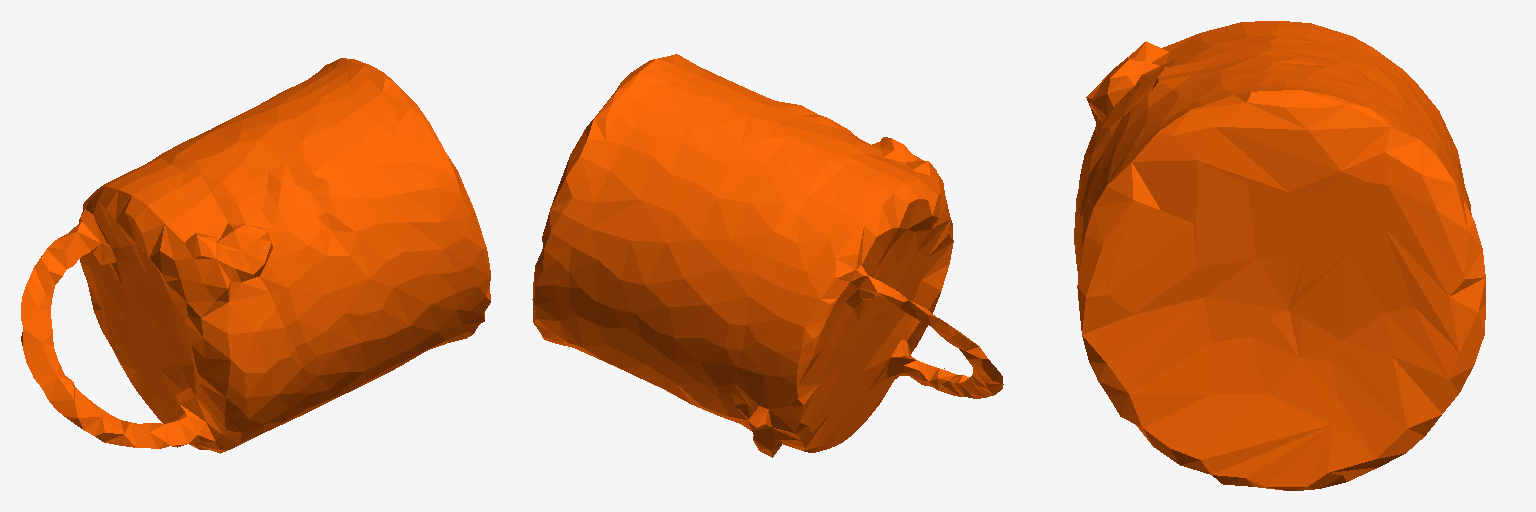
robot.urdf — candy_toy:
<?xml version="1.0" ?>
<robot name="candy_toy">
   <material name="obj_color">
      <color rgba="1.0 0.423529411765 0.0392156862745 1.0"/>
   </material>
   <link name="top">
      <inertial>
         <origin rpy="0.002463861740235715 0.003011032043180198 0.003070506765611338" xyz="0.01559938501990142 0.0005196950977075285 0.002922600163270314"/>
         <mass value="1.811879439585593"/>
         <inertia ixx="0.002506888890940232" ixy="-4.5893181827111e-05" ixz="-0.0001470544007237769" iyy="0.003035262943375719" iyz="1.819596843999152e-05" izz="0.003003248714711299"/>
      </inertial>
      <visual>
         <origin rpy="0 0 0" xyz="0 0 0"/>
         <geometry>
            <mesh filename="top_watertight_tiny.stl" scale="1 1 1"/>
         </geometry>
         <material name="obj_color"/>
      </visual>
      <collision>
         <origin rpy="0 0 0" xyz="0 0 0"/>
         <geometry>
            <mesh filename="top_watertight_tiny.obj" scale="1 1 1"/>
         </geometry>
      </collision>
   </link>
   <link name="bottom">
      <inertial>
         <origin rpy="1.633333333199431e-08 1.633333333199431e-08 1.633333333362855e-08" xyz="0.3464080000000008 0.3464080000000008 0.3464080000000008"/>
         <mass value="0.0009800000000000017"/>
         <inertia ixx="1.633333333253906e-08" ixy="5.447480642029219e-19" ixz="5.447480642029219e-19" iyy="1.633333333253906e-08" iyz="5.447480642029219e-19" izz="1.633333333253906e-08"/>
      </inertial>
      <visual>
         <origin rpy="0 0 0" xyz="0 0 0"/>
         <geometry>
            <mesh filename="bottom_watertight_tiny.stl" scale="1 1 1"/>
         </geometry>
         <material name="obj_color"/>
      </visual>
   </link>
   <joint name="rotation" type="revolute">
      <origin xyz="0 0 0"/>
      <axis xyz="0 0 -1"/>
      <parent link="bottom"/>
      <child link="top"/>
      <dynamics damping="1.0" friction="1.0"/>
      <limit effort="0.1" velocity="0.1" lower="0" upper="0.001"/>
   </joint>
</robot>

--- What the picture shows (computed from the rendered views, not written in the file) ---
Views: 3 orthographic renders of the robot side by side, from view 1: azimuth 30°, elevation 25°; view 2: azimuth 150°, elevation 25°; view 3: azimuth 270°, elevation 25°.
Robot: candy_toy — 2 links, 1 joints (1 revolute); root link bottom; default pose: every joint at zero.
Visible links, largest first — view 1: top; view 2: top; view 3: top.
Link boxes in pixels (<box>): top: <box>21,58,490,453</box>; top: <box>532,54,1003,457</box>; top: <box>1074,21,1485,490</box>.
Bounding box of the posed robot: 0.1646 × 0.1079 × 0.1248 m (x, y, z).
1 mesh visuals loaded from 2 distinct referenced files (1 binary STL); not drawn: 1 (reference not matched to a file when rendering).
